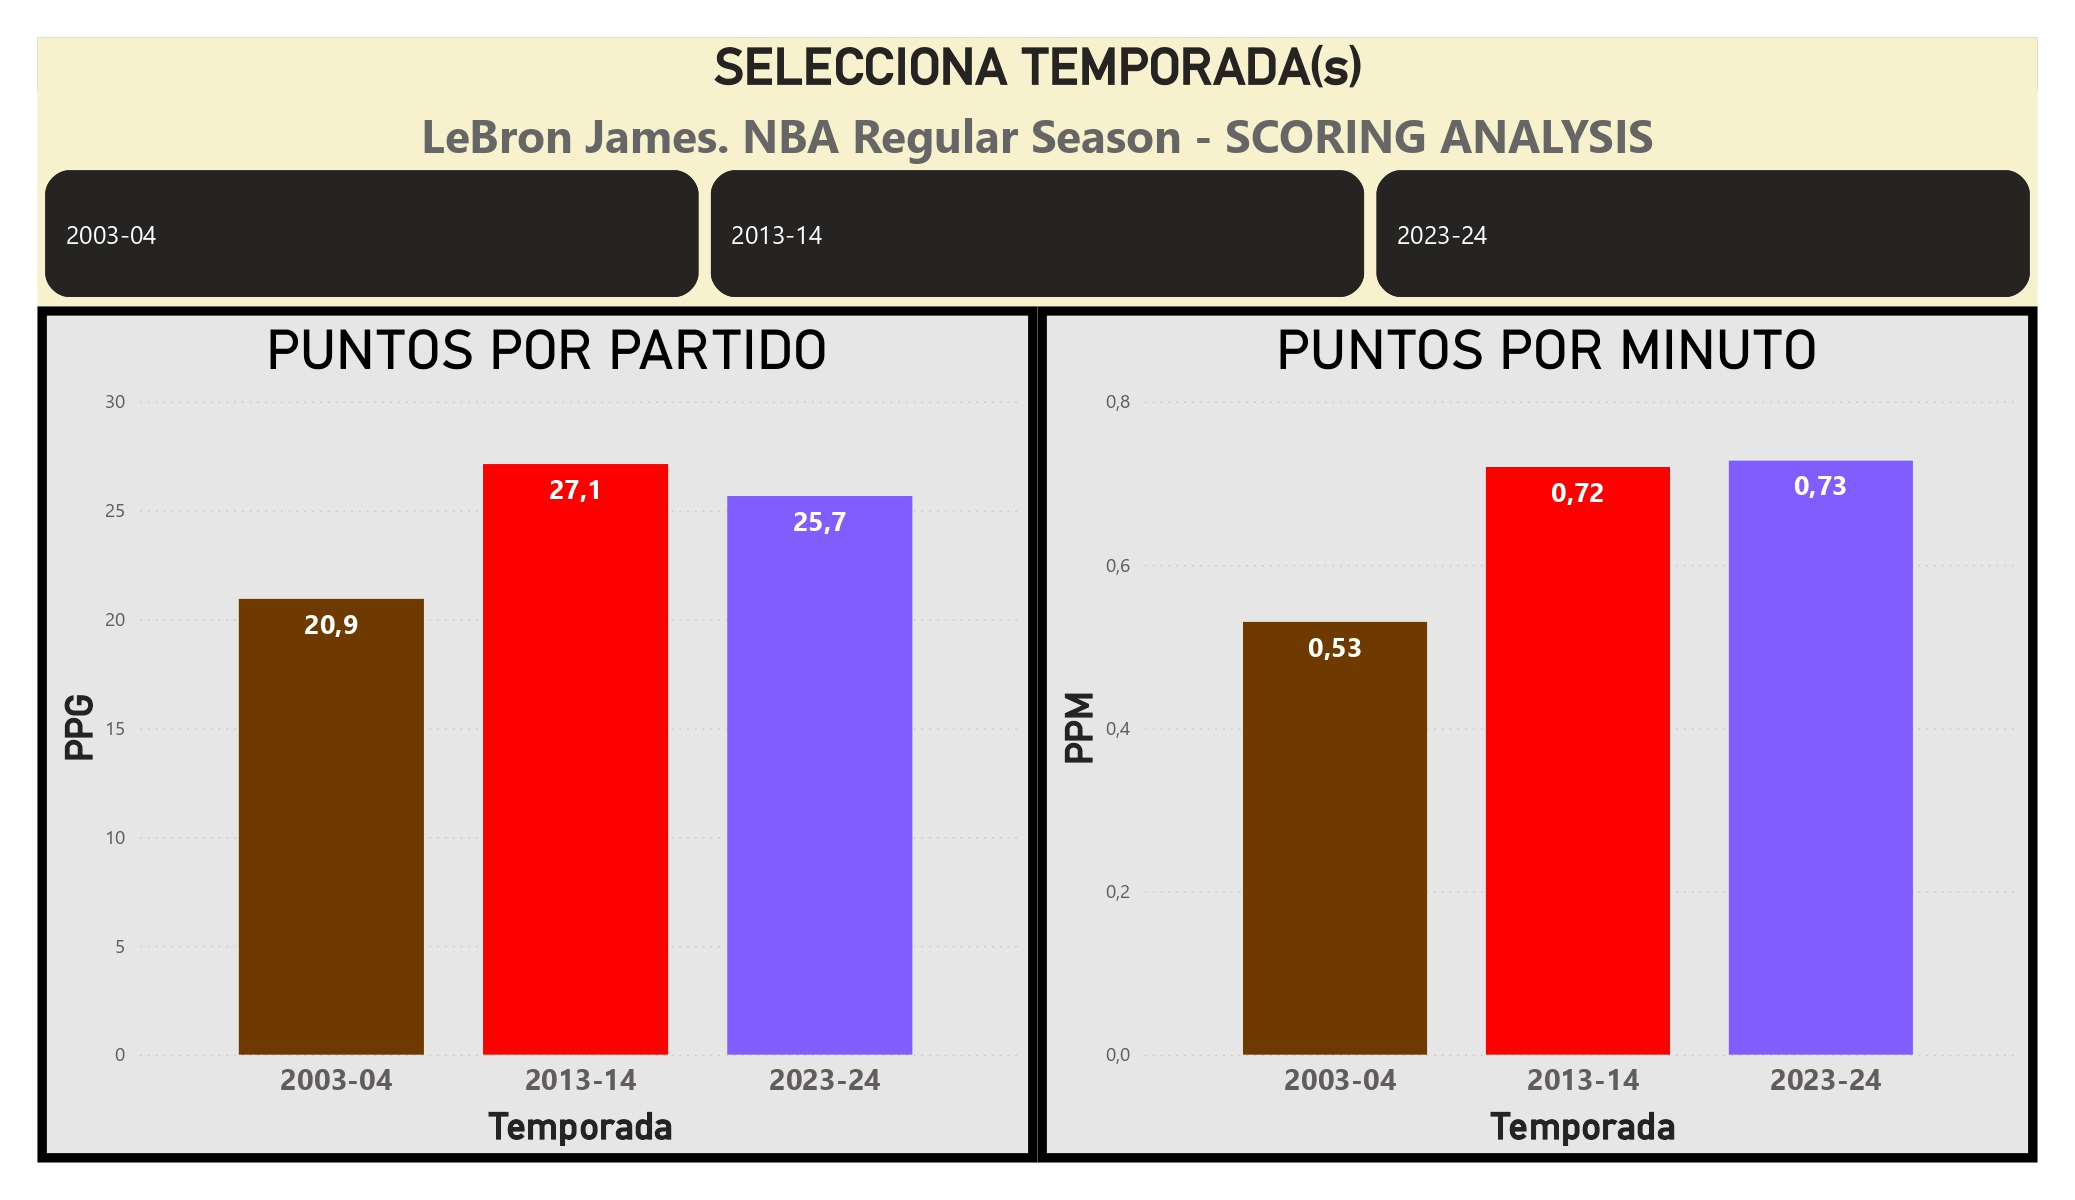

The dashboard page shown, as its layout file describes it:
{"tool":"powerbi","page":{"name":"ANOTACIÓN","canvas":[1280,720],"ordinal":0},"visuals":[{"type":"columnChart","title":"PUNTOS POR PARTIDO","fields":{"Category":["lebron_career_data.SEASON_ID"],"Y":["lebron_career_data.med_PPG"],"Series":["lebron_career_data.SEASON_ID"]},"box":[0,171.7,640,548.3],"z":0},{"type":"columnChart","title":"PUNTOS POR MINUTO","fields":{"Category":["lebron_career_data.SEASON_ID"],"Y":["lebron_career_data.med_PPM"],"Series":["lebron_career_data.SEASON_ID"]},"box":[640,171.7,640,548.3],"z":1000},{"type":"advancedSlicerVisual","title":"SELECCIONA TEMPORADA(s)","fields":{"Values":["lebron_career_data.SEASON_ID"]},"box":[0,0,1280,171.7],"z":2000}]}

Visuals, with their boxes on the page's 1280x720 design canvas (x1, y1, x2, y2). These are canvas units, not pixel positions in the 2075x1200 screenshot, which may show the page scaled, cropped or inside an application window:
"PUNTOS POR PARTIDO" columnChart: rect(0, 172, 640, 720)
"PUNTOS POR MINUTO" columnChart: rect(640, 172, 1280, 720)
"SELECCIONA TEMPORADA(s)" advancedSlicerVisual: rect(0, 0, 1280, 172)
